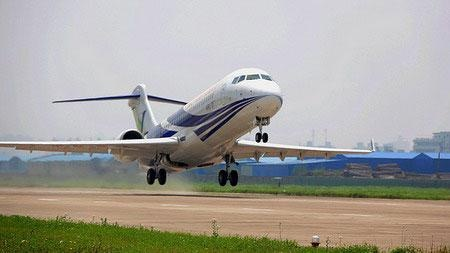airplane: (1, 67, 381, 190)
